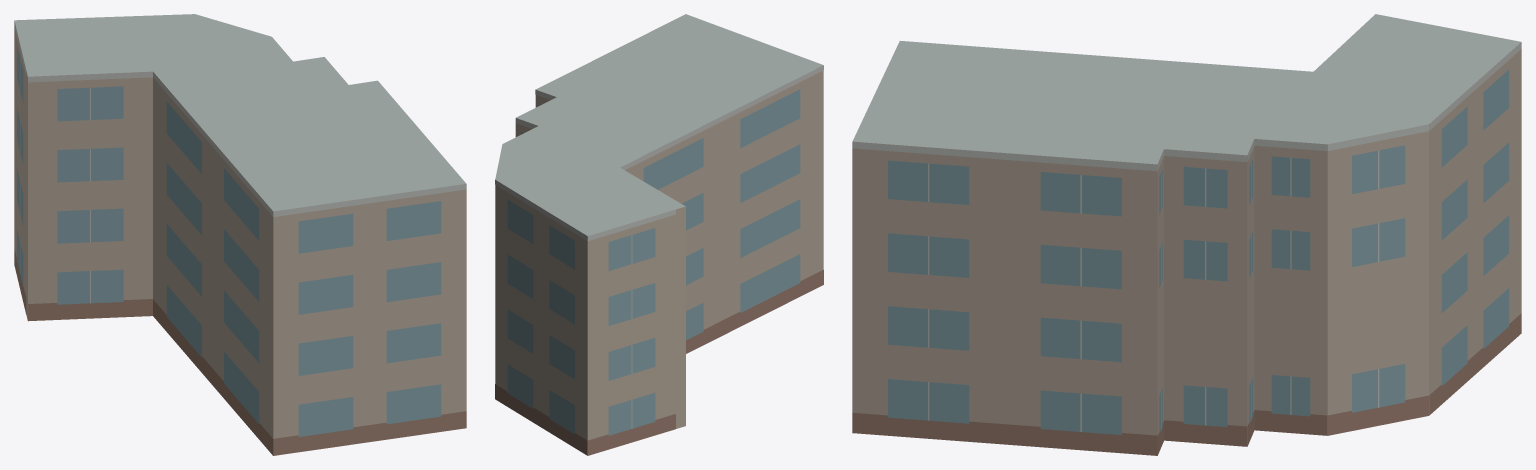
File: survey-upis-32991796.glb
3 renders of one model, left to right at view 1: azimuth 30°, elevation 25°; view 2: azimuth 150°, elevation 25°; view 3: azimuth 270°, elevation 25°, orthographic. The views are drawn at different scales.
Parts seen in each view (by area): view 1: survey-upis-32991796.tmp; view 2: survey-upis-32991796.tmp; view 3: survey-upis-32991796.tmp.
Part boxes in pixels (x1,y1,x2,y2): survey-upis-32991796.tmp: (14, 14, 466, 455); survey-upis-32991796.tmp: (495, 14, 823, 455); survey-upis-32991796.tmp: (852, 14, 1521, 455).
Size of the model in its own units: 11.64 by 10.5 by 21.87.
